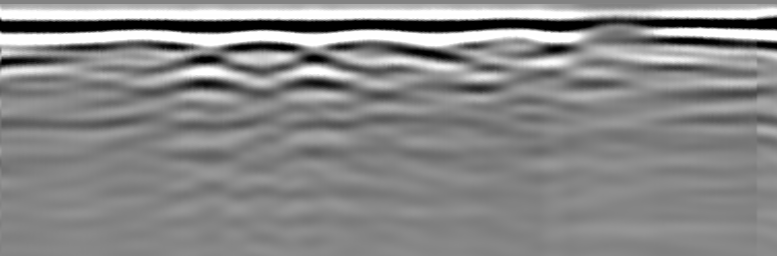pipe: (567, 17, 666, 42)
steel: (276, 47, 365, 71), (163, 46, 245, 70)
